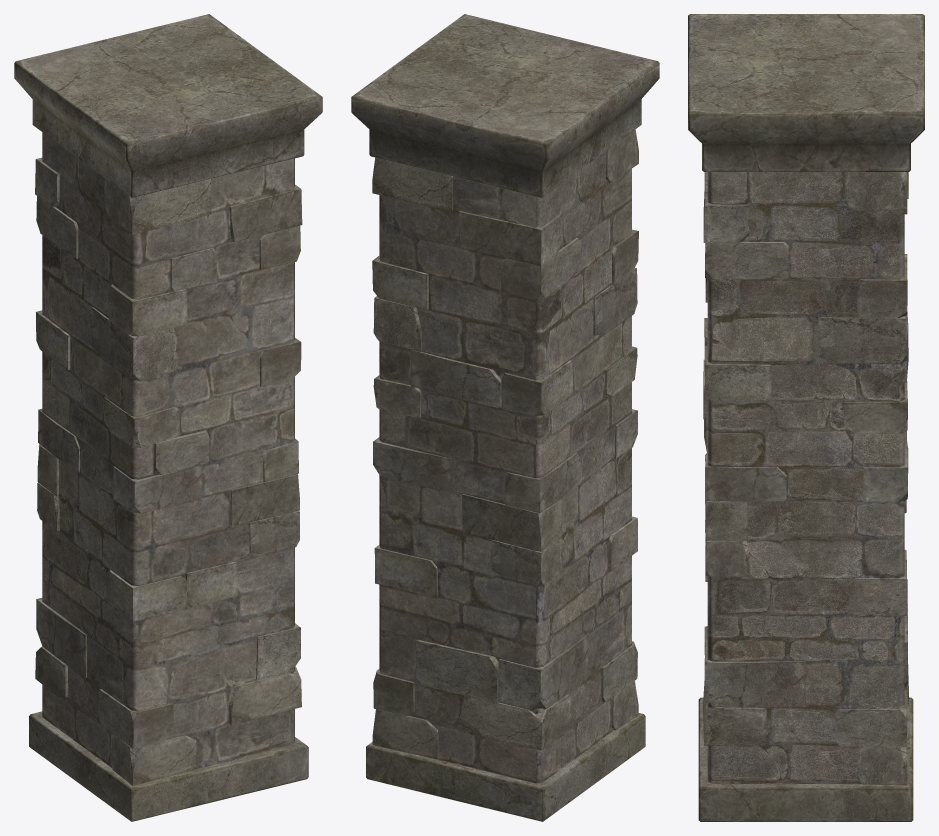
The model's file is SM_Brick_Column_03.fbx.
3 views of the same model, side by side, from view 1: azimuth 30°, elevation 25°; view 2: azimuth 150°, elevation 25°; view 3: azimuth 270°, elevation 25° (orthographic). The views are drawn at different scales.
Parts seen in each view (by area): view 1: SM_Brick_Column_03_LOD0; view 2: SM_Brick_Column_03_LOD0; view 3: SM_Brick_Column_03_LOD0.
Part boxes in pixels (x1=…): SM_Brick_Column_03_LOD0: x1=14, y1=14, x2=322, y2=821; SM_Brick_Column_03_LOD0: x1=351, y1=14, x2=659, y2=821; SM_Brick_Column_03_LOD0: x1=688, y1=14, x2=924, y2=821.
Size of what is drawn, in the model's own units: 181 by 603 by 181.
2 materials, 2 textured.
